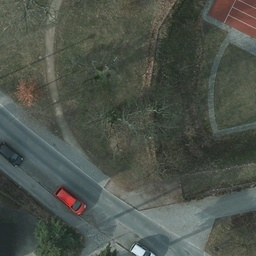car: (55, 187, 86, 213), (1, 141, 24, 165), (126, 242, 157, 255)
